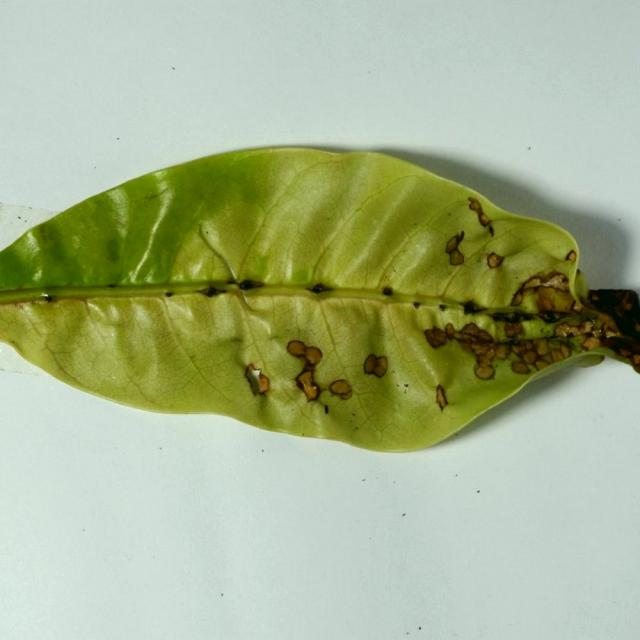Anthracnose: (425, 321, 503, 378), (282, 339, 351, 401), (445, 201, 496, 271), (510, 272, 573, 312), (196, 280, 266, 297), (604, 336, 639, 363), (245, 363, 269, 396), (590, 309, 618, 331), (423, 327, 448, 348), (459, 301, 488, 315), (619, 290, 636, 312), (504, 321, 523, 339), (580, 335, 602, 350), (306, 283, 334, 294), (436, 385, 448, 410), (551, 348, 566, 363), (536, 339, 549, 356), (535, 359, 550, 371), (34, 295, 52, 304), (468, 198, 481, 210), (566, 250, 577, 263), (479, 213, 490, 225), (382, 286, 393, 296)
Mango: (0, 146, 639, 456)
